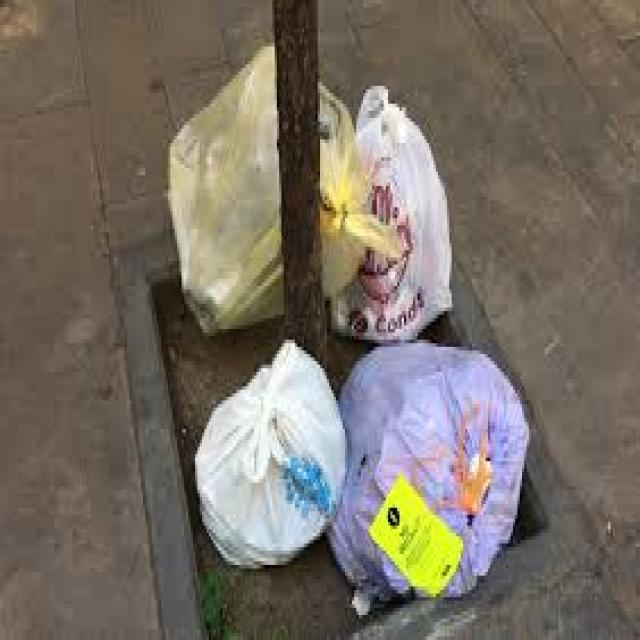garbage: (146, 48, 539, 599)
